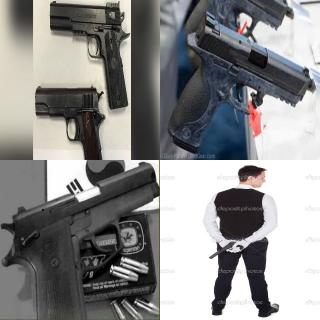gun: (2, 161, 158, 318), (165, 10, 316, 146), (47, 0, 128, 110), (33, 83, 107, 159), (206, 238, 244, 262)
